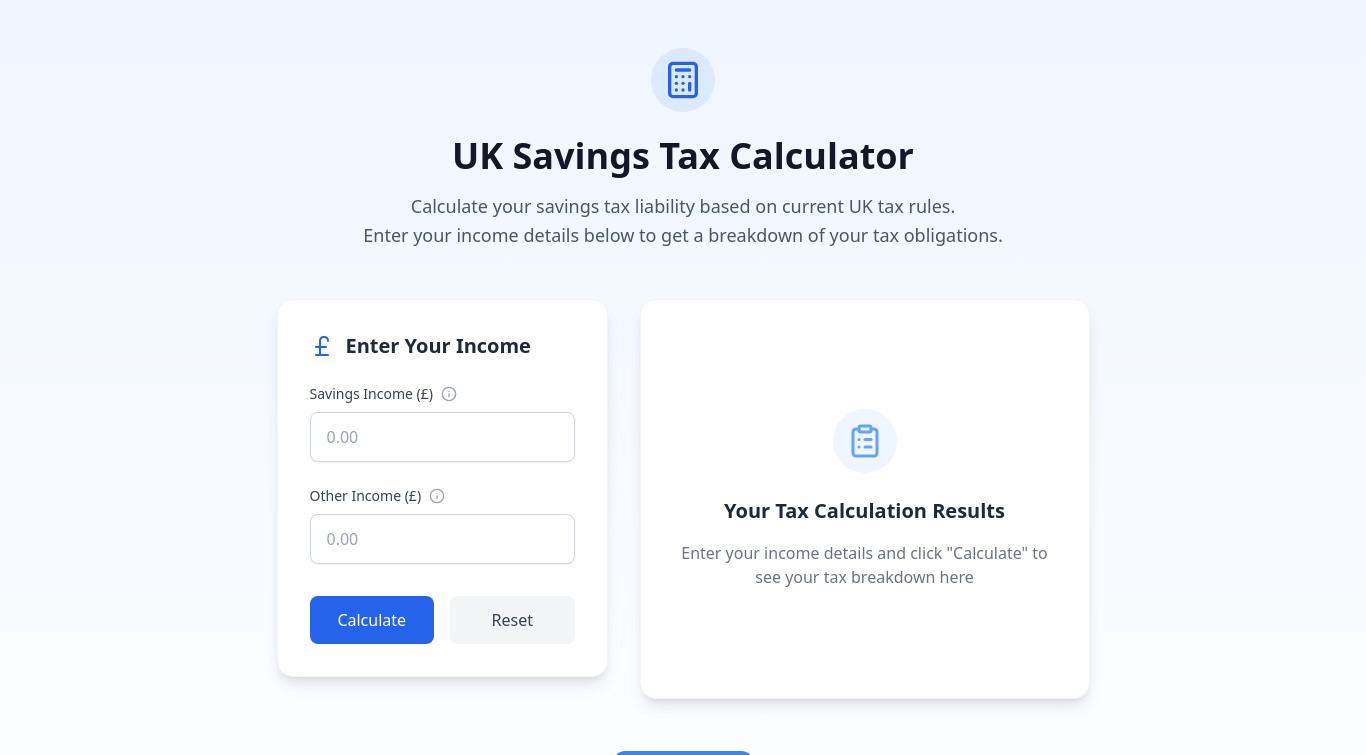
Test: calculate the pounds the person submitted › shows both errors and leaves the existing tax due when both figures are negative
In the field with placeholder "0.00" below "Savings Income (£)": (442, 436) [310,412,574,462], type "1001.90"
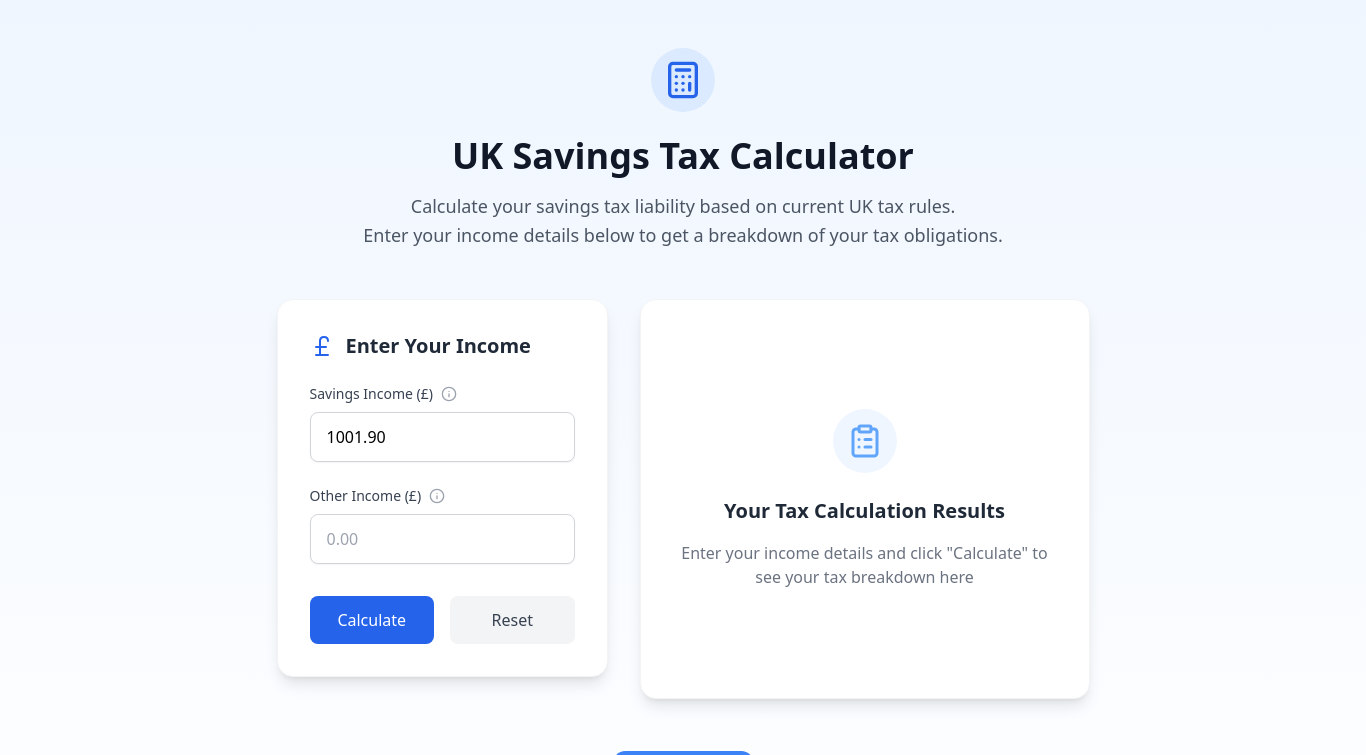
In the field with placeholder "0.00": (442, 538) [310,514,574,564], type "20000.40"
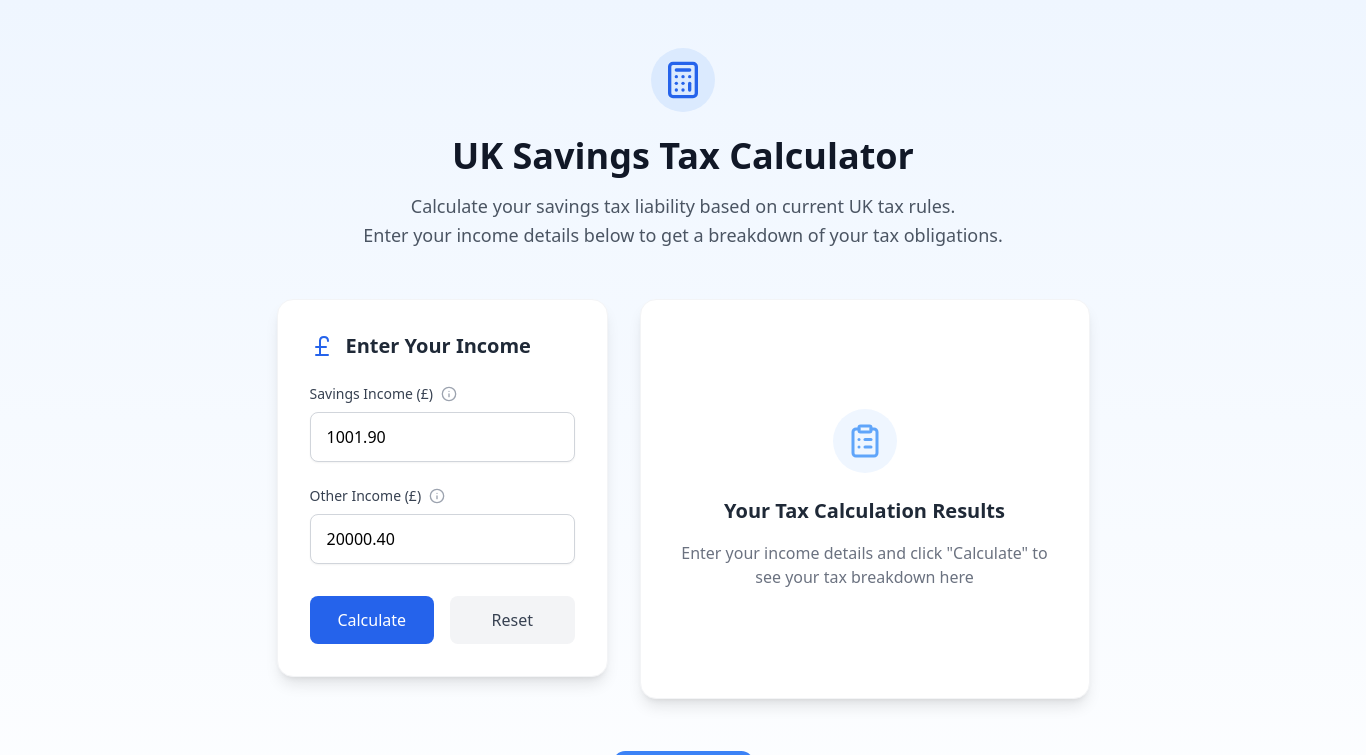
Click the button "Calculate": click(372, 620) [310,596,434,644]
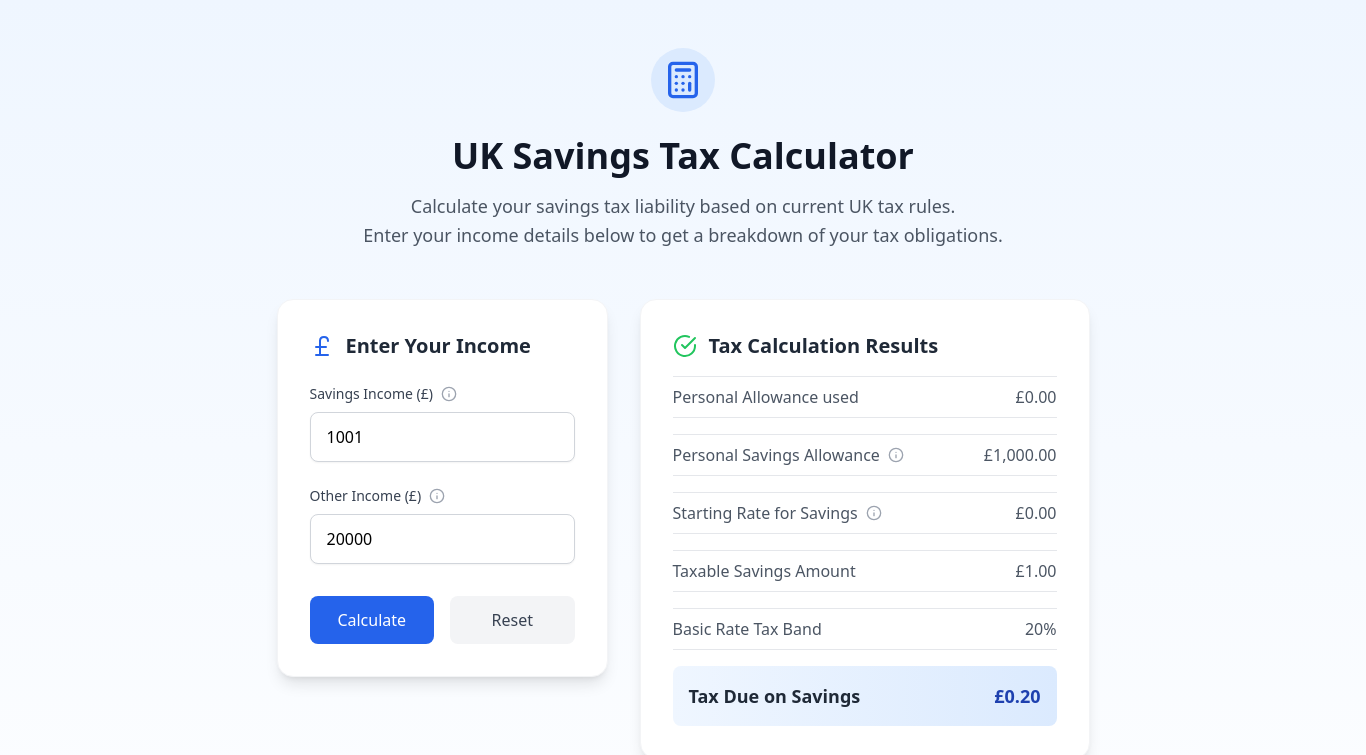
Replace the text in the field below "Savings Income (£)" with "-2": (442, 436) [310,412,574,462]
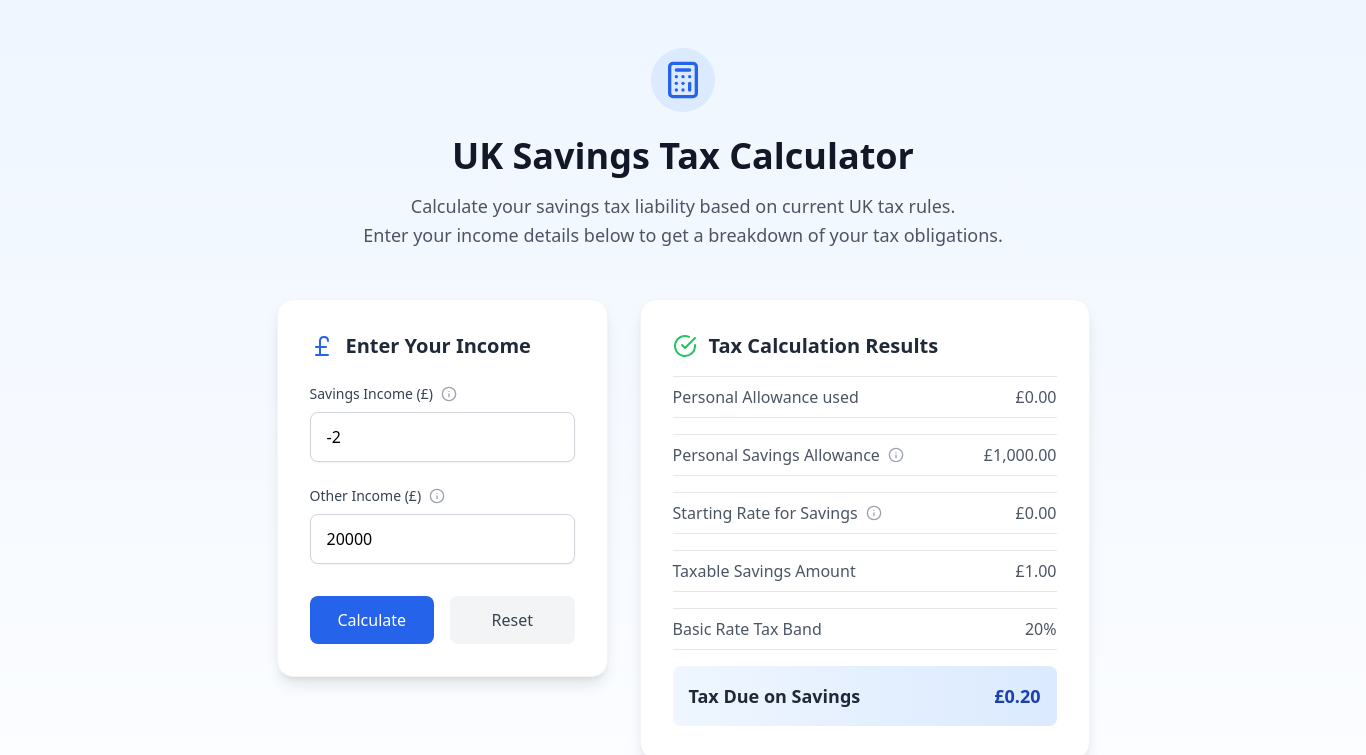
Replace the text in the field below "Other Income (£)" with "-3.50": (442, 538) [310,514,574,564]
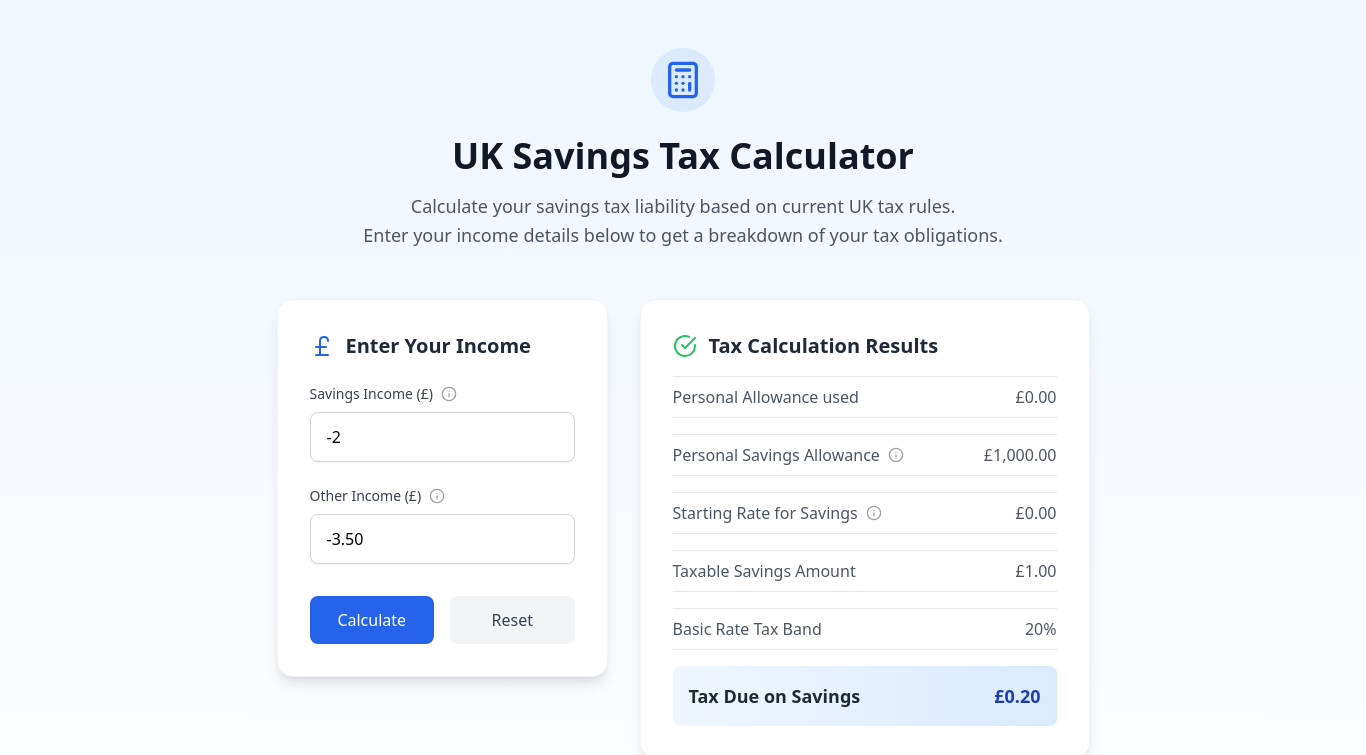
Click the button "Calculate": click(372, 620) [310,596,434,644]
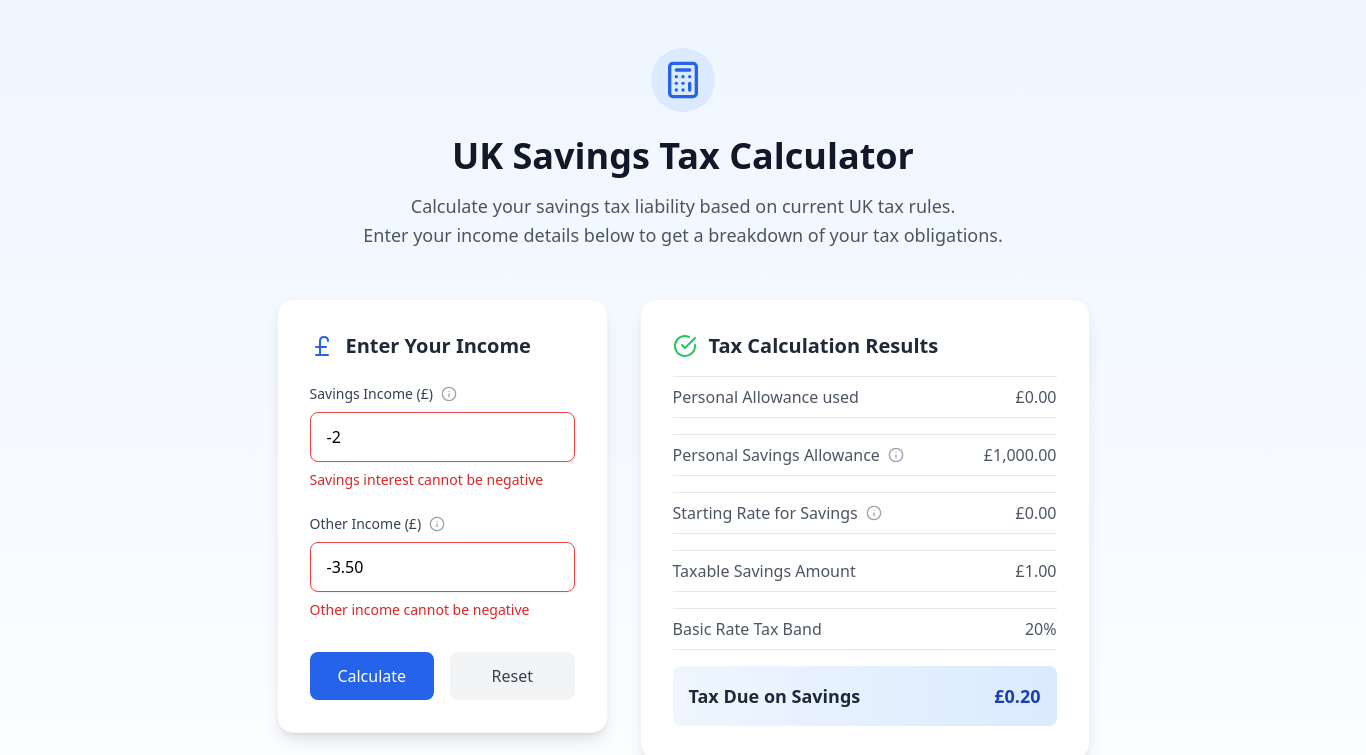
Expected: the text "Savings interest cannot be negative" is shown, [310,470,574,490]
Expected: the text "Other income cannot be negative" is shown, [310,600,529,618]
